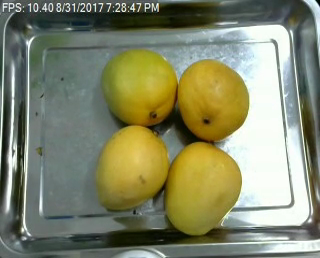Mango: (163, 142, 243, 233), (95, 125, 171, 209), (179, 57, 249, 140), (102, 48, 176, 125)
